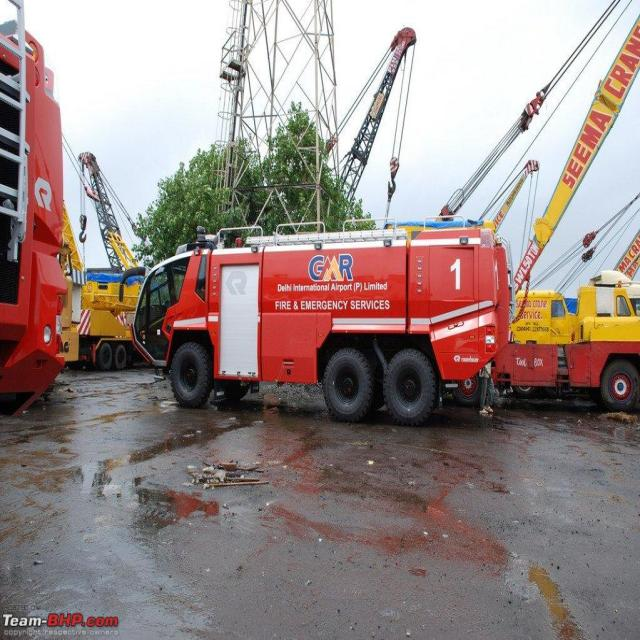emergency: (132, 222, 509, 425)
truck: (492, 17, 640, 411), (78, 153, 141, 371)
